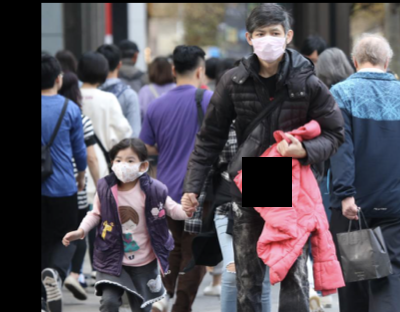with_mask: (249, 26, 288, 60), (110, 154, 140, 183)
